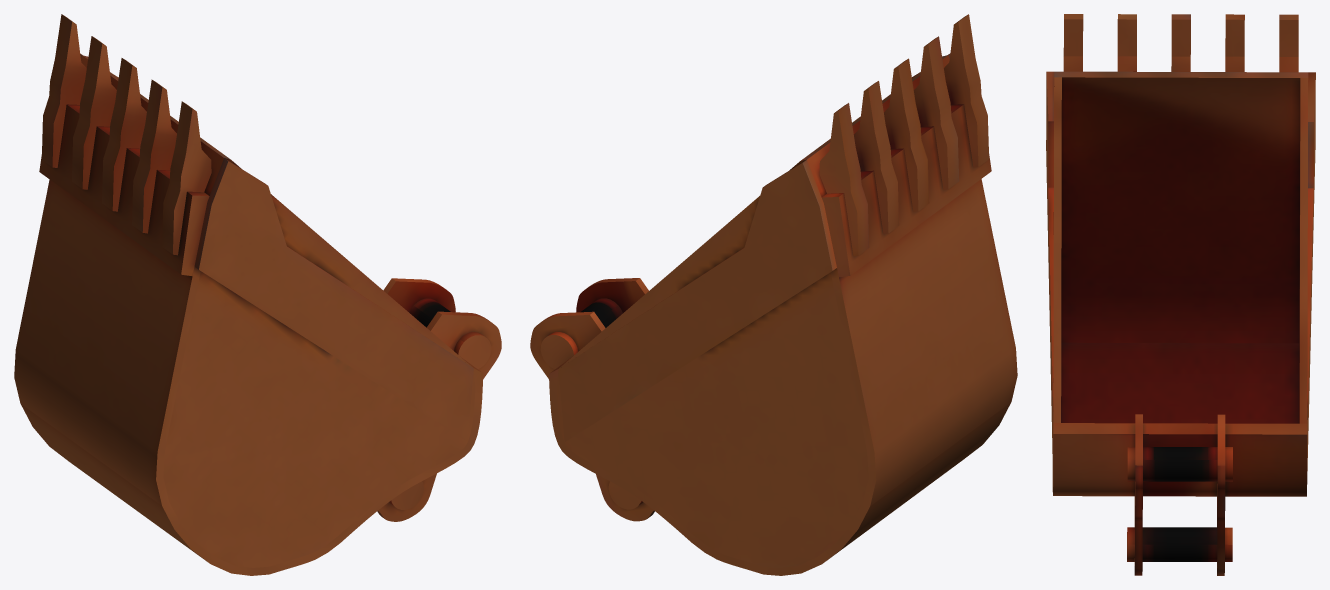
The model's file is zx120-bucket.dae.
3 views of the same model, side by side, from view 1: azimuth 30°, elevation 25°; view 2: azimuth 150°, elevation 25°; view 3: azimuth 270°, elevation 25° (orthographic). The views are drawn at different scales.
Parts seen in each view (by area): view 1: backet, arm-bk-dm; view 2: backet, arm-bk-dm; view 3: backet, arm-bk-dm, bk-C-dm.
Part boxes in pixels (left/top/right/bottom): backet: left=14, top=14, right=501, bottom=575; arm-bk-dm: left=409, top=298, right=491, bottom=368; backet: left=530, top=14, right=1017, bottom=575; arm-bk-dm: left=540, top=298, right=622, bottom=369; backet: left=1046, top=14, right=1315, bottom=575; arm-bk-dm: left=1127, top=447, right=1232, bottom=481; bk-C-dm: left=1127, top=527, right=1232, bottom=561.
Bounding box in the file's own units: 1.05 × 0.701 × 1.29.
1 material, 1 textured.
